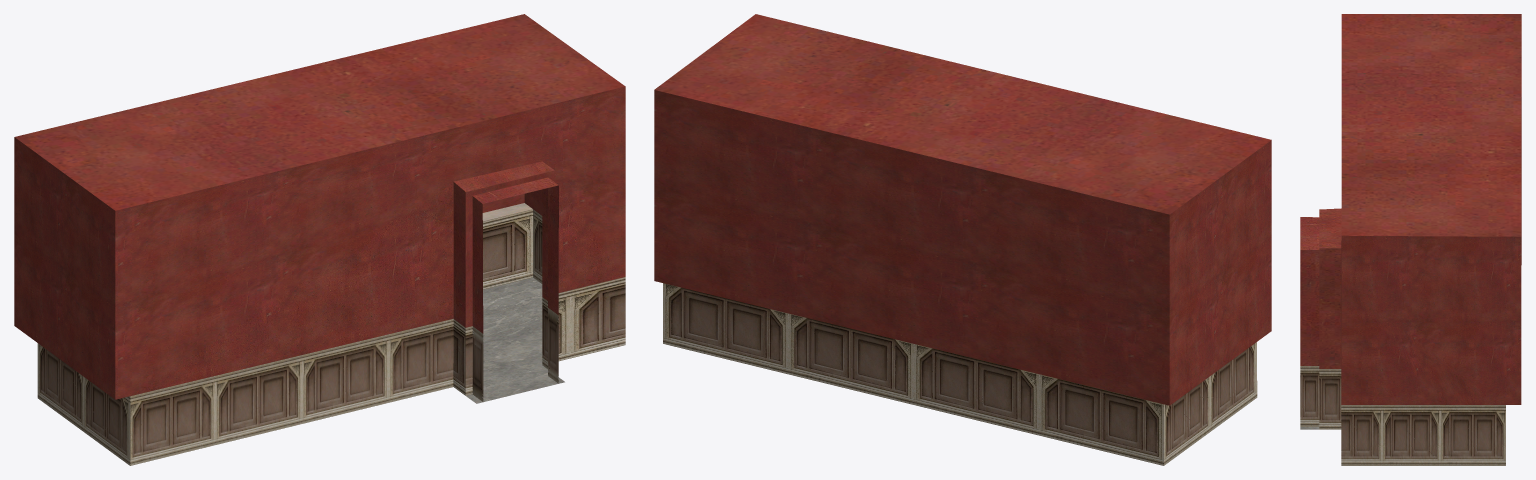
Rendered from thm_nboo_thed_imprv_building_s04_r1_foyer1_r1_mesh.fbx.
3 renders of one model, left to right at view 1: azimuth 30°, elevation 25°; view 2: azimuth 150°, elevation 25°; view 3: azimuth 270°, elevation 25°, orthographic. The views are drawn at different scales.
Visible parts, largest first — view 1: mesh_node; view 2: mesh_node; view 3: mesh_node.
Boxes of the visible parts, x1=… form: mesh_node: x1=14, y1=14, x2=625, y2=465; mesh_node: x1=654, y1=14, x2=1271, y2=465; mesh_node: x1=1300, y1=14, x2=1521, y2=465.
Bounding box in the file's own units: 8.6 × 4.16 × 3.63.
